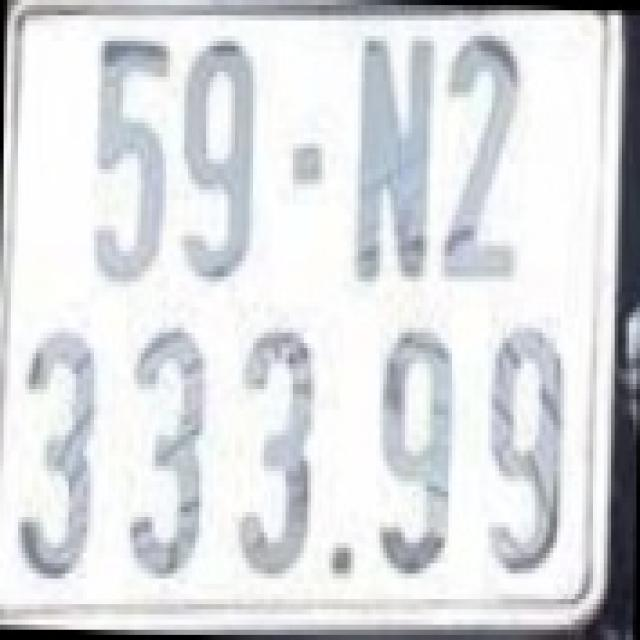2: (441, 30, 528, 286)
3: (126, 322, 210, 578), (14, 328, 98, 578), (235, 322, 318, 574)
5: (90, 35, 170, 282)
9: (372, 322, 460, 578), (481, 317, 568, 574), (177, 35, 257, 282)
N: (347, 30, 434, 286)
